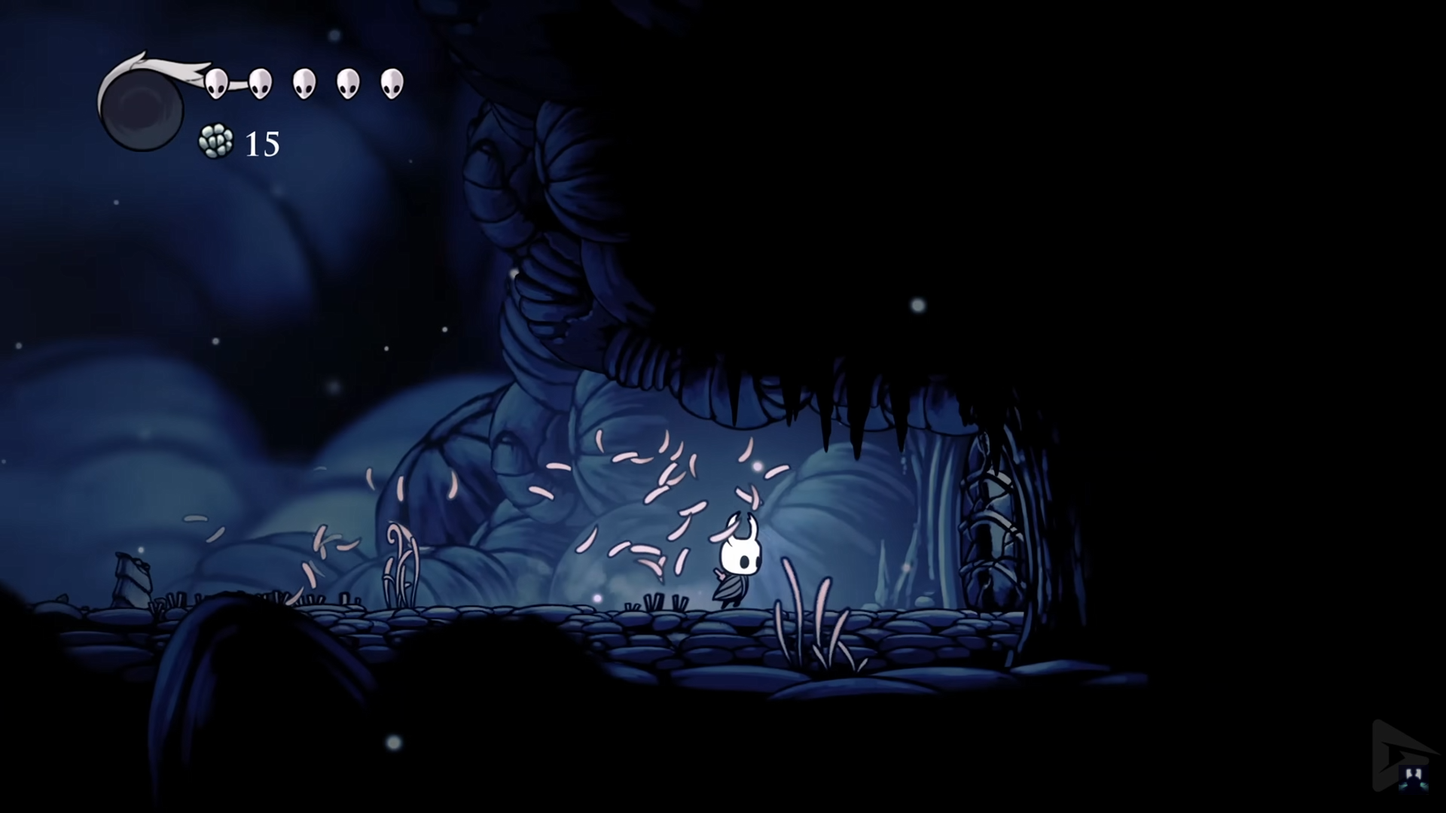HK: (709, 507, 767, 613)
